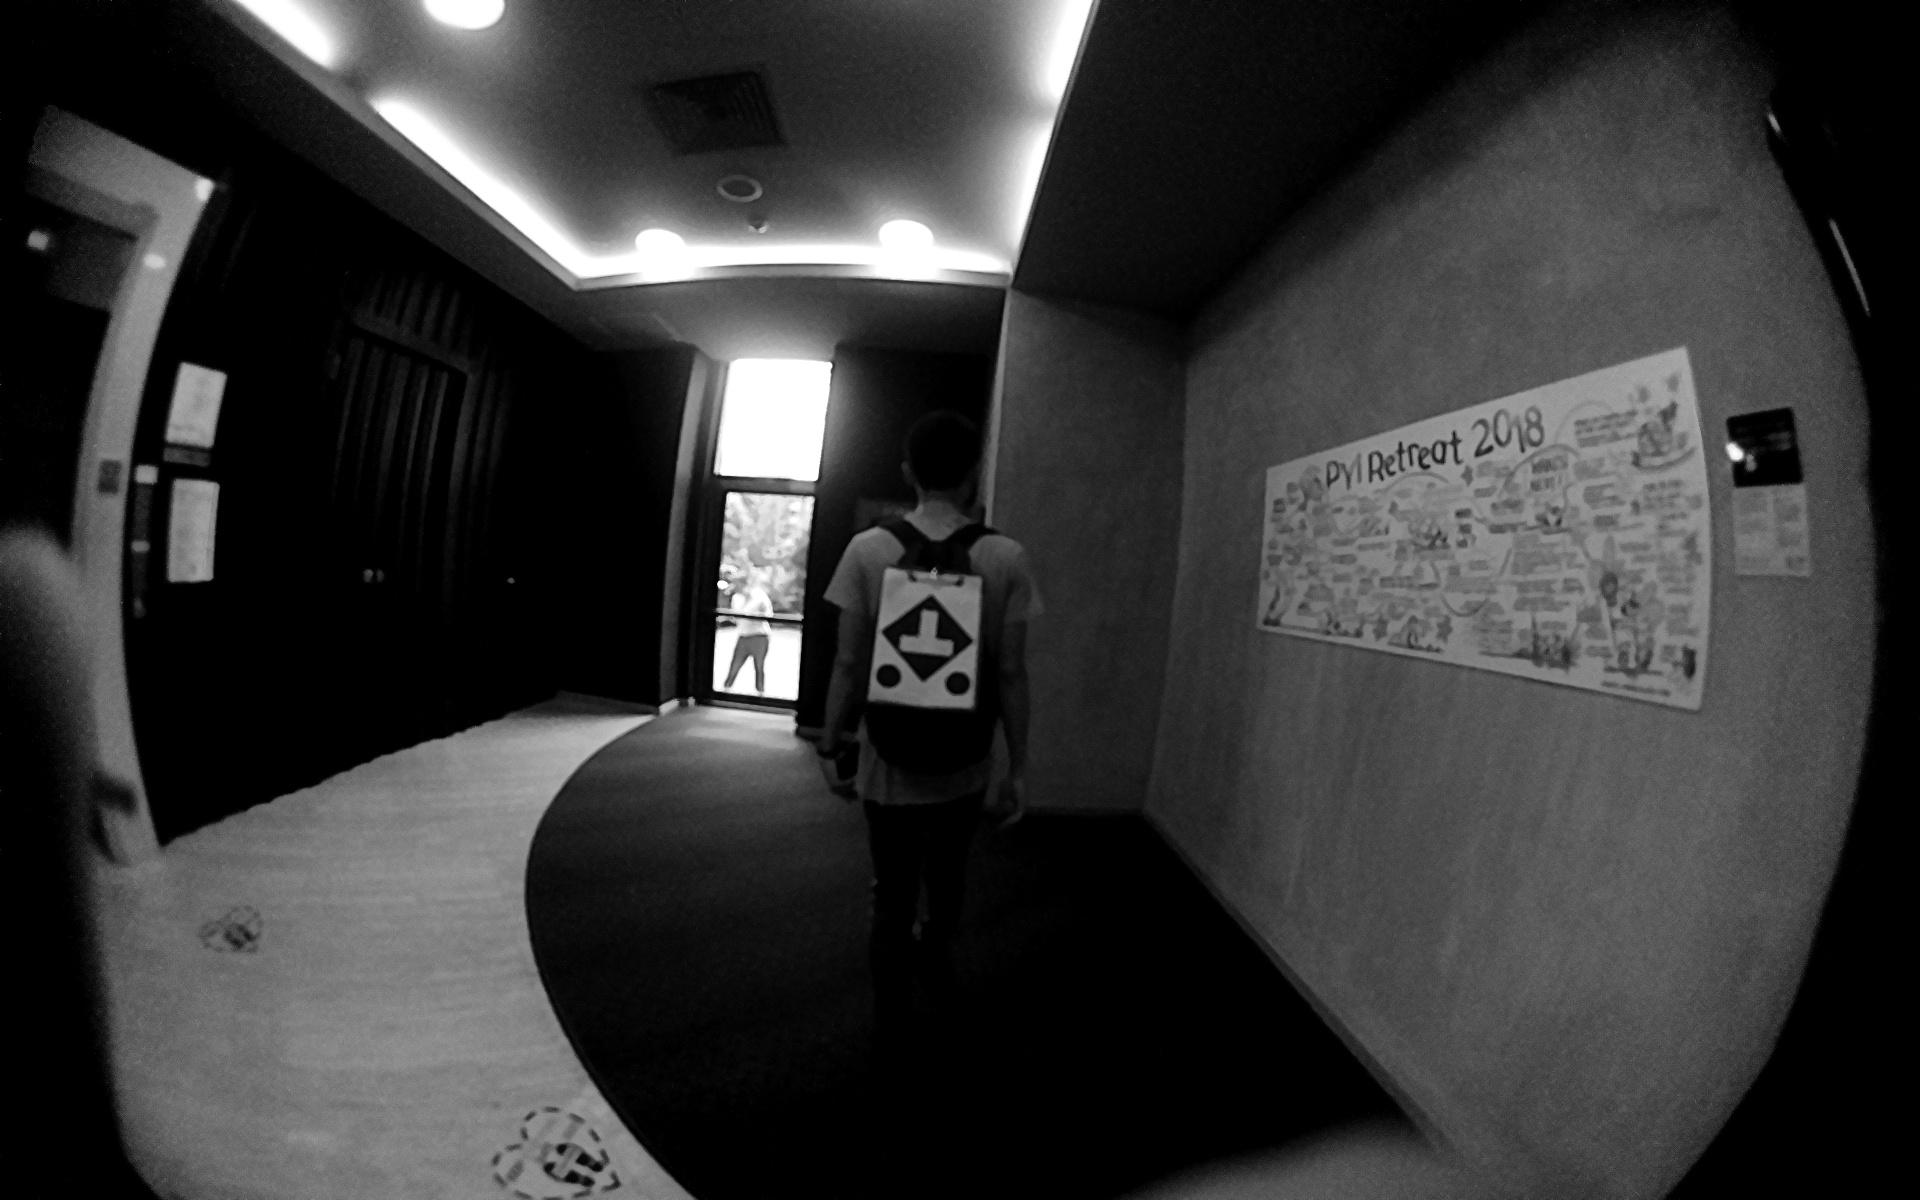continue_forward: (871, 585, 983, 704)
